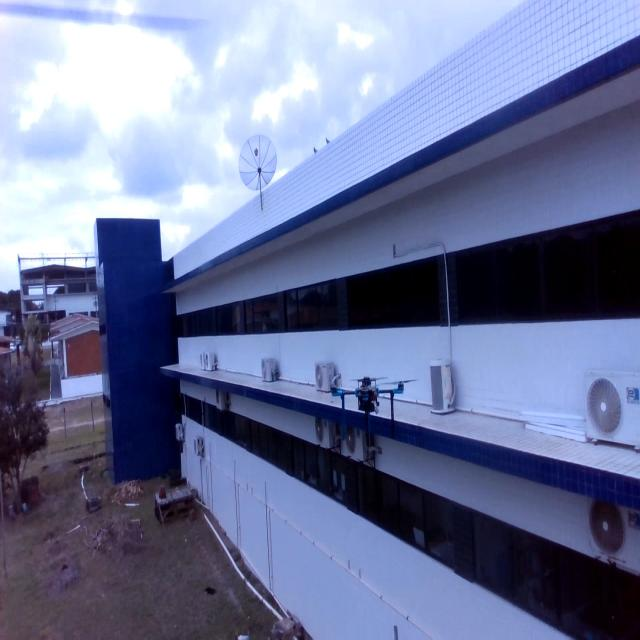-uav-: (331, 357, 409, 450)
